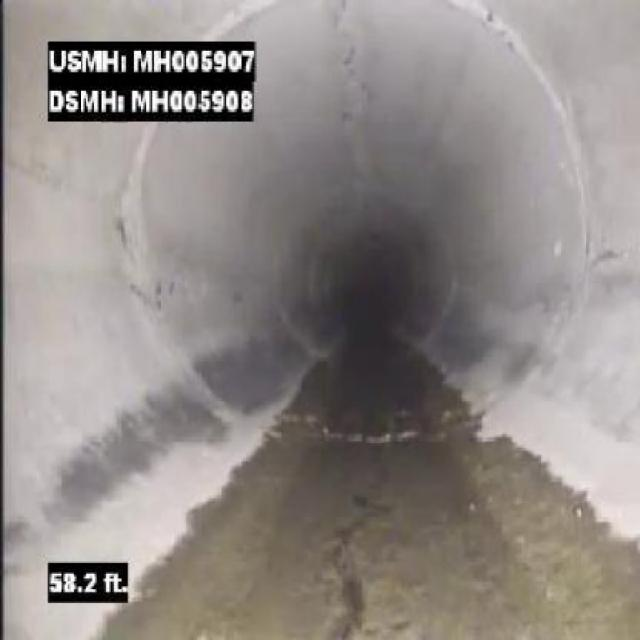Crack: (323, 483, 395, 639), (336, 3, 370, 100), (126, 266, 182, 314), (594, 226, 638, 272)
